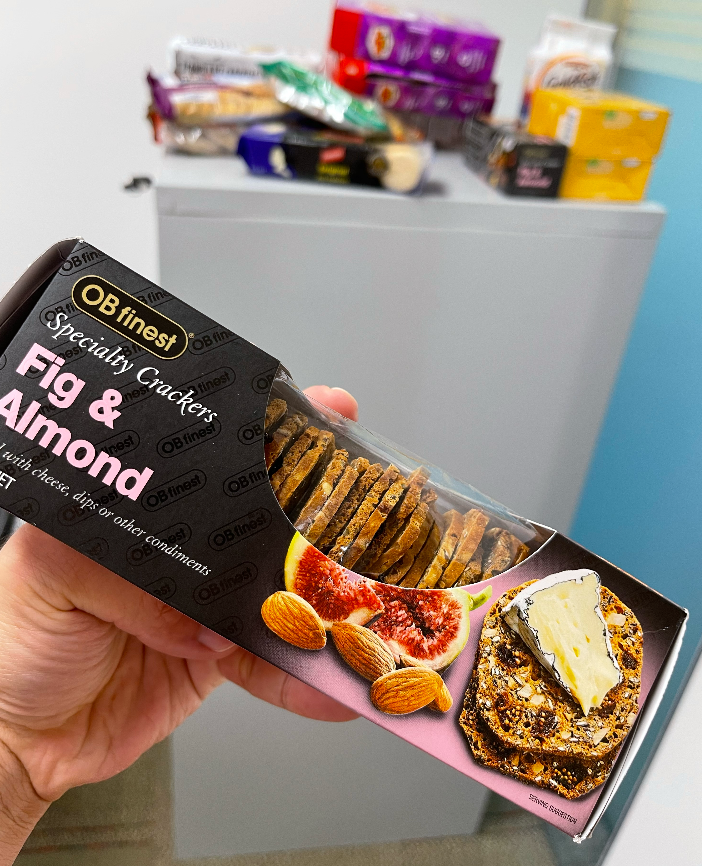crackers_100g-199g: (66, 316, 579, 712)
